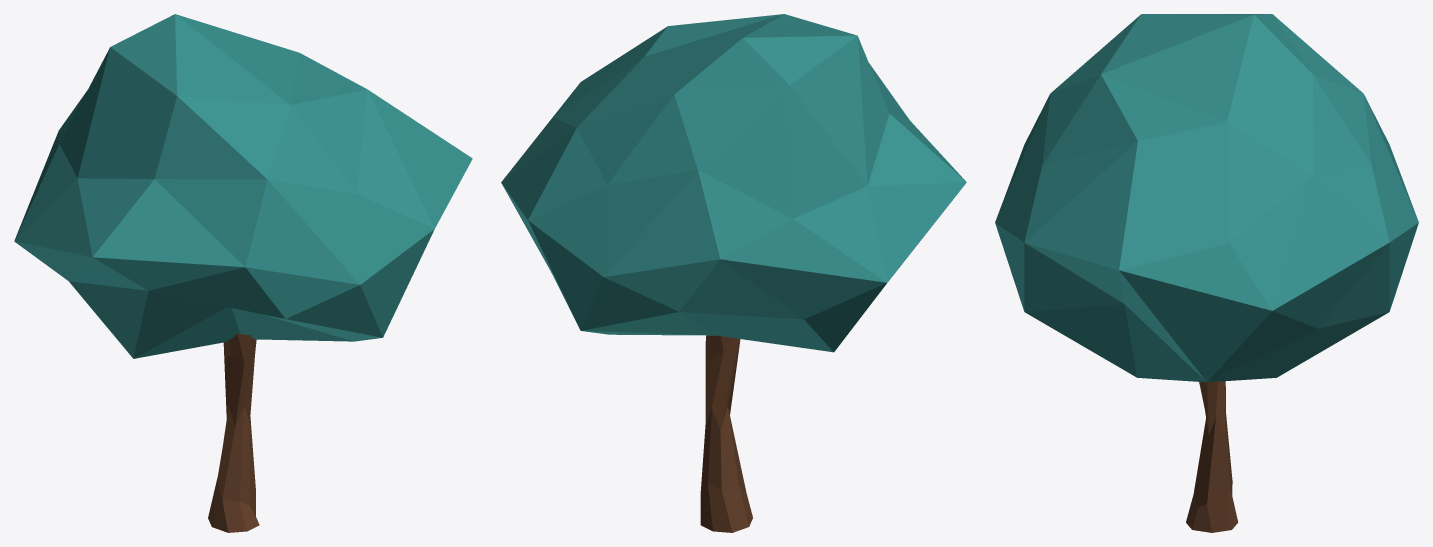
The model's file is Tree_47_Blue.fbx.
3 views of the same model, side by side, from view 1: azimuth 30°, elevation 25°; view 2: azimuth 150°, elevation 25°; view 3: azimuth 270°, elevation 25° (orthographic). The views are drawn at different scales.
Visible parts, largest first — view 1: Tree_47_Blue_Part_1, Tree_47_Blue_Part_2; view 2: Tree_47_Blue_Part_1, Tree_47_Blue_Part_2; view 3: Tree_47_Blue_Part_1, Tree_47_Blue_Part_2.
Part boxes in pixels (box(x1,y1,x2,y2)): Tree_47_Blue_Part_1: box(14, 14, 472, 358); Tree_47_Blue_Part_2: box(208, 333, 259, 532); Tree_47_Blue_Part_1: box(501, 14, 966, 352); Tree_47_Blue_Part_2: box(700, 335, 752, 532); Tree_47_Blue_Part_1: box(995, 14, 1418, 382); Tree_47_Blue_Part_2: box(1186, 381, 1238, 532).
Bounding box in the file's own units: 630 × 794 × 622.
